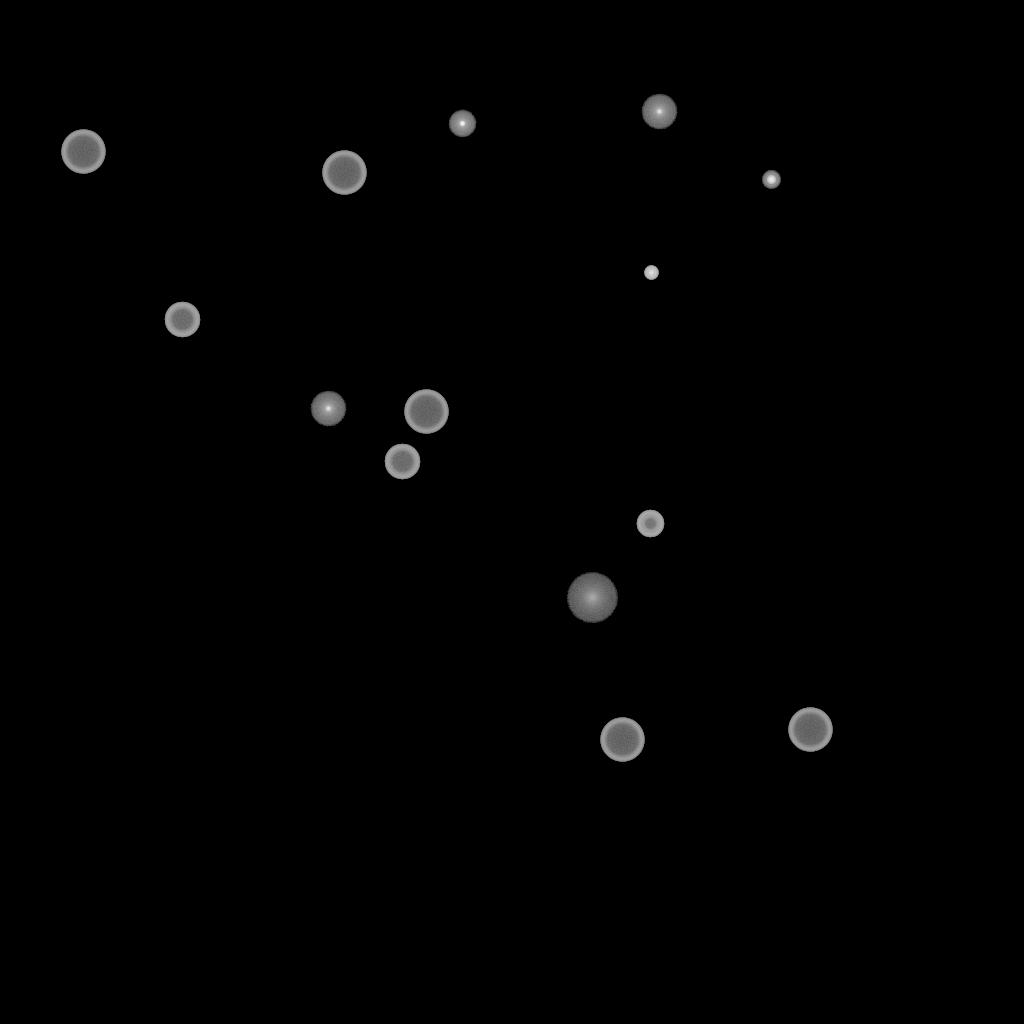depth:-10: (448, 110, 476, 138)
depth:-20: (762, 171, 780, 189)
depth:-30: (644, 266, 658, 280)
depth:-50: (636, 510, 664, 538)
depth:-60: (384, 444, 420, 480), (164, 302, 200, 338)
depth:-70: (600, 718, 644, 762), (788, 708, 832, 752), (322, 151, 366, 195), (404, 390, 448, 434), (61, 130, 105, 174)
depth:0: (641, 94, 677, 130), (310, 391, 346, 427)
depth:20: (566, 573, 618, 623)
